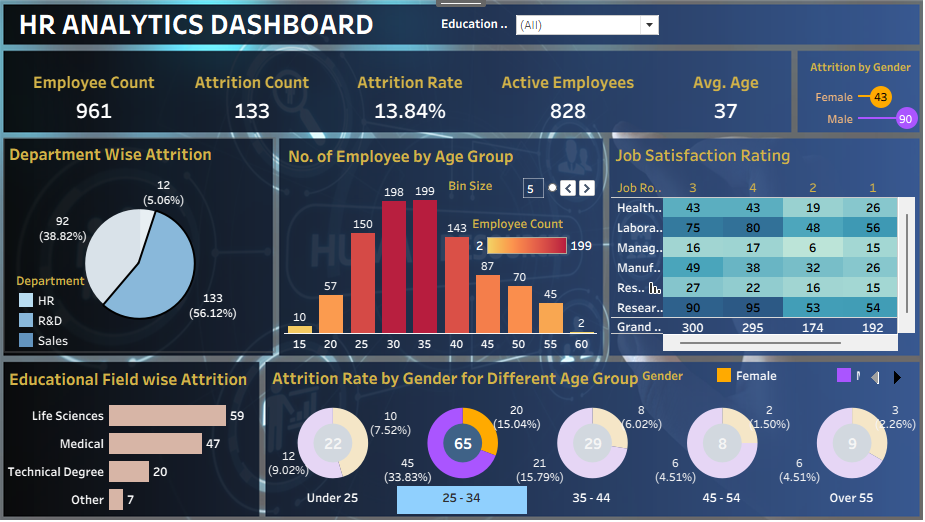

The page's visual inventory and layout, read from the dashboard file:
{"tool":"tableau","page":{"name":"Dashboard 1","canvas":[1200,800],"ordinal":0},"visuals":[{"type":"image","param":"Image/HR background (1).png","box":[8,8,1184,784]},{"type":"text","box":[43,75,500,48]},{"type":"filter","title":"Department Wise Attrition","param":"[federated.0aia52v1fe6qgc1eiwoxg1nrq5v7].[none:Education Field:nk]","box":[658,78,337,44]},{"type":"worksheet","title":"KPI","mark":"Automatic","box":[20,135,997,99]},{"type":"worksheet","title":"Attrition by Gender","mark":"Automatic","rows":["Gender"],"cols":["Calculation_540150536876589056","Calculation_540150536876589056"],"box":[1031,136,149,98]},{"type":"worksheet","title":"Department Wise Attrition","mark":"Pie","box":[45,245,313,274]},{"type":"worksheet","title":"No. of Employee by Age Group","mark":"Automatic","rows":["Employee Count"],"cols":["Age (bin)"],"box":[372,246,405,272]},{"type":"parameter","param":"[Parameters].[Parameter 1]","box":[605,247,174,38]},{"type":"worksheet","title":"Job Satisfaction Rating","mark":"Square","rows":["Job Role"],"cols":["Job Satisfaction"],"box":[790,247,390,271]},{"type":"legend","title":"No. of Employee by Age Group","param":"[federated.0aia52v1fe6qgc1eiwoxg1nrq5v7].[sum:Employee Count:qk]","box":[629,285,148,57]},{"type":"legend","title":"Department Wise Attrition","param":"[federated.0aia52v1fe6qgc1eiwoxg1nrq5v7].[none:Department:nk]","box":[44,427,71,91]},{"type":"worksheet","title":"Educational Field wise Attrition","mark":"Automatic","rows":["Education Field"],"cols":["Calculation_540150536876589056"],"box":[45,530,295,192]},{"type":"worksheet","title":"Attrition Rate by Gender for Different Age Group","mark":"Pie","rows":["Calculation_1440588987759304705","Calculation_1440588987759304705"],"cols":["CF_age band"],"box":[354,530,825,191]},{"type":"legend","title":"Attrition Rate by Gender for Different Age Group","param":"[federated.0aia52v1fe6qgc1eiwoxg1nrq5v7].[none:Gender:nk]","box":[831,532,350,36]}]}

Visuals, with their boxes on the page's 1200x800 design canvas (x1, y1, x2, y2). These are canvas units, not pixel positions in the 925x522 screenshot, which may show the page scaled, cropped or inside an application window:
image: x1=8 y1=8 x2=1192 y2=792
text: x1=43 y1=75 x2=543 y2=123
"Department Wise Attrition" filter: x1=658 y1=78 x2=995 y2=122
"KPI" worksheet: x1=20 y1=135 x2=1017 y2=234
"Attrition by Gender" worksheet: x1=1031 y1=136 x2=1180 y2=234
"Department Wise Attrition" worksheet (Pie marks): x1=45 y1=245 x2=358 y2=519
"No. of Employee by Age Group" worksheet: x1=372 y1=246 x2=777 y2=518
parameter: x1=605 y1=247 x2=779 y2=285
"Job Satisfaction Rating" worksheet (Square marks): x1=790 y1=247 x2=1180 y2=518
"No. of Employee by Age Group" legend: x1=629 y1=285 x2=777 y2=342
"Department Wise Attrition" legend: x1=44 y1=427 x2=115 y2=518
"Educational Field wise Attrition" worksheet: x1=45 y1=530 x2=340 y2=722
"Attrition Rate by Gender for Different Age Group" worksheet (Pie marks): x1=354 y1=530 x2=1179 y2=721
"Attrition Rate by Gender for Different Age Group" legend: x1=831 y1=532 x2=1181 y2=568
